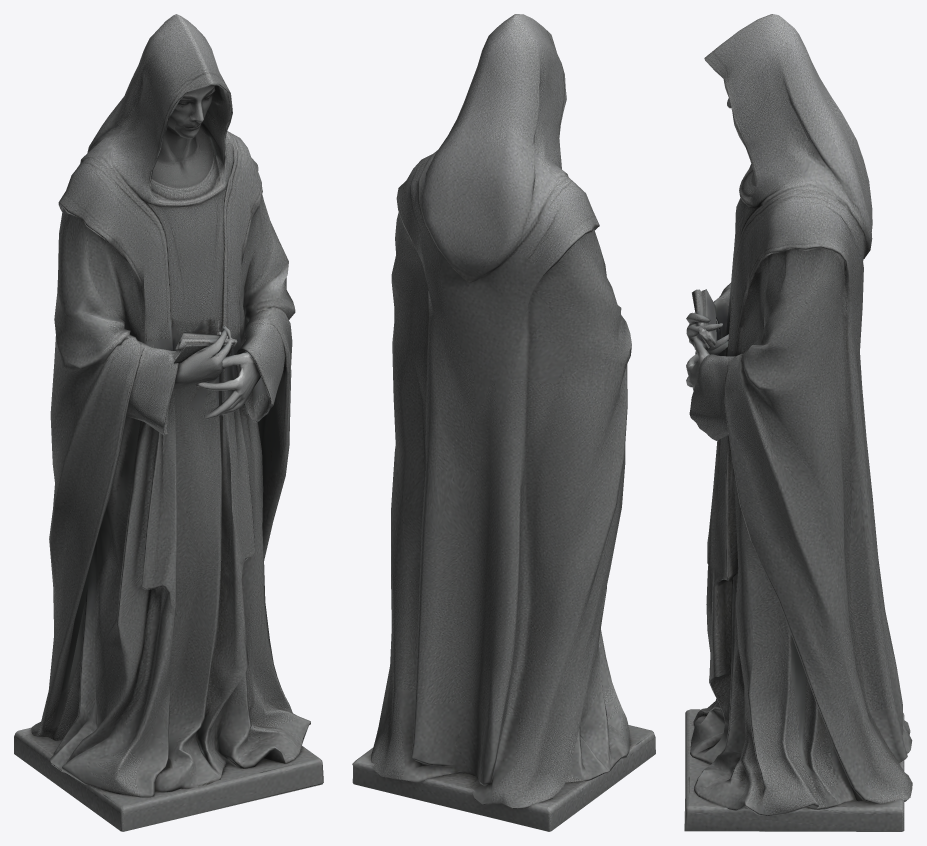
Rendered from statue_hooded.glb.
3 views of the same model, side by side, from view 1: azimuth 30°, elevation 25°; view 2: azimuth 150°, elevation 25°; view 3: azimuth 270°, elevation 25° (orthographic). The views are drawn at different scales.
Size of the model in its own units: 0.3066 by 0.9512 by 0.2563.
1 material, 1 textured.
